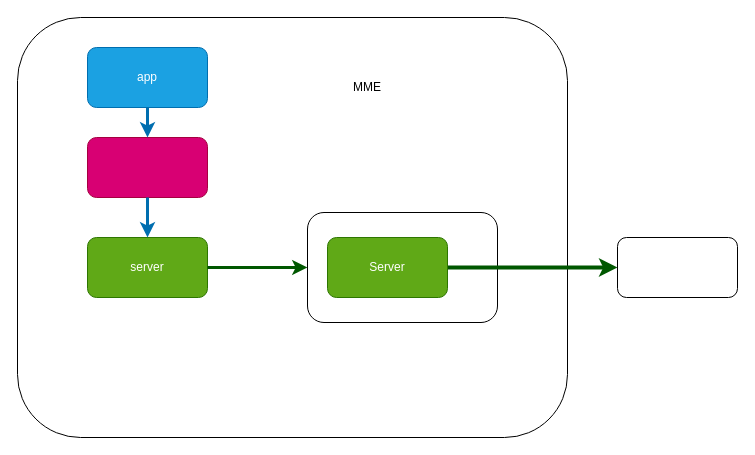
This 755x455 diagram has some shape labels left out. The centre of each missing label's shape, as x and y in pixels:
main_sup: the point at 147,167
mnesia: the point at 677,267
